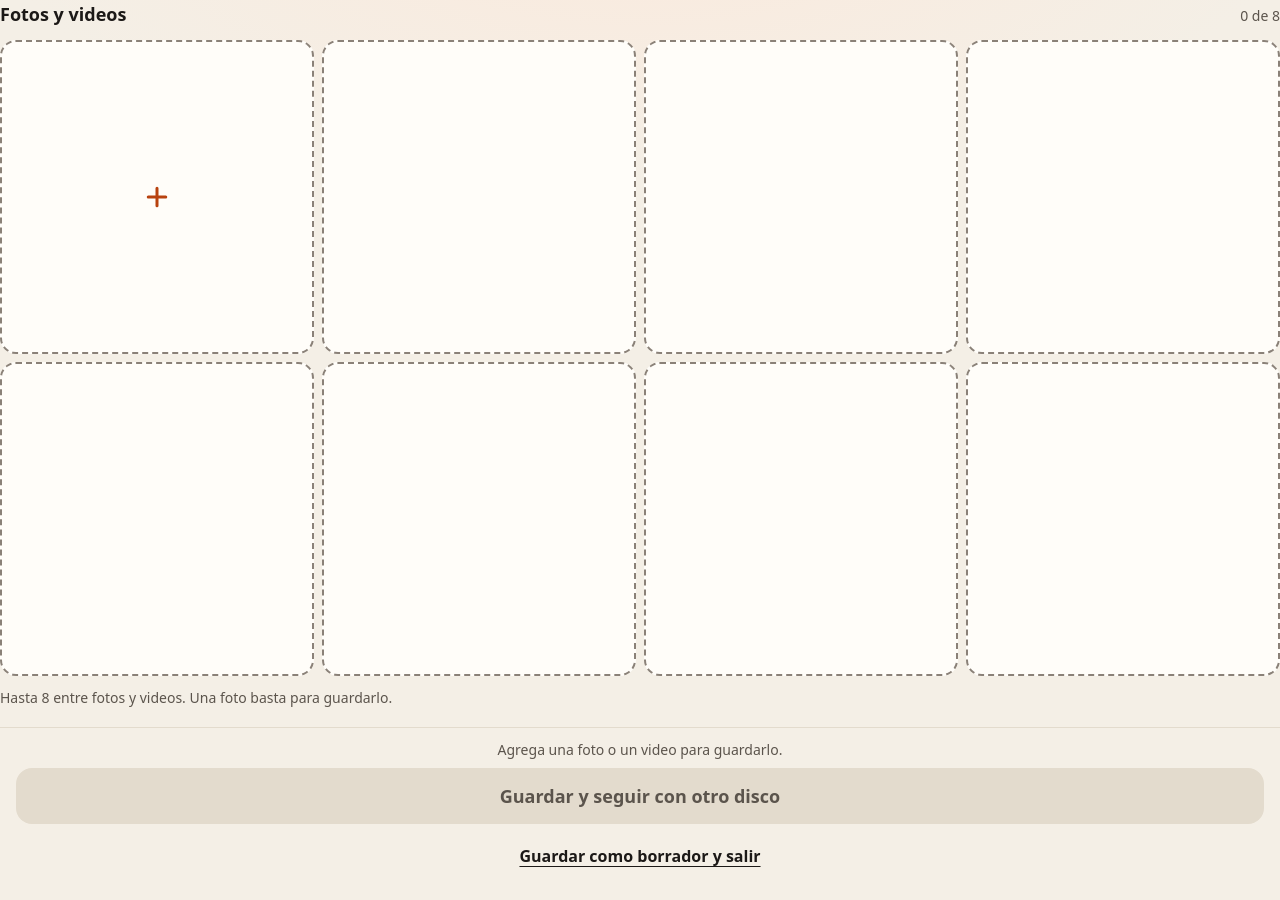
Test: NewRecordForm › the photo boxes › opens the camera picker and closes the question
This screenshot has width=1280, height=900.
Click the 1st button named "Agregar foto o video".
click(157, 197)  # box [0,40,314,354]
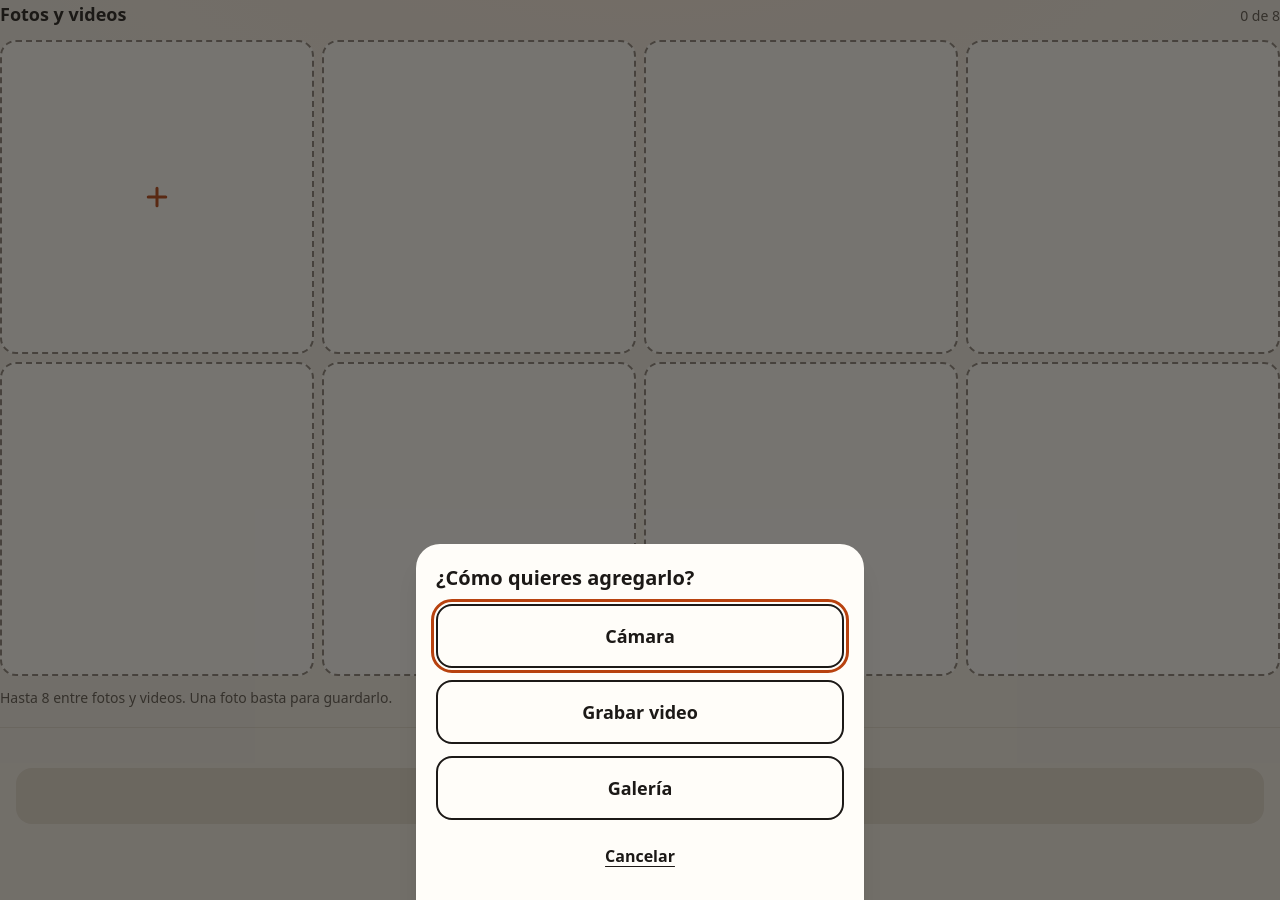
Click the button "Cámara".
click(640, 636)  # box [436,604,844,668]
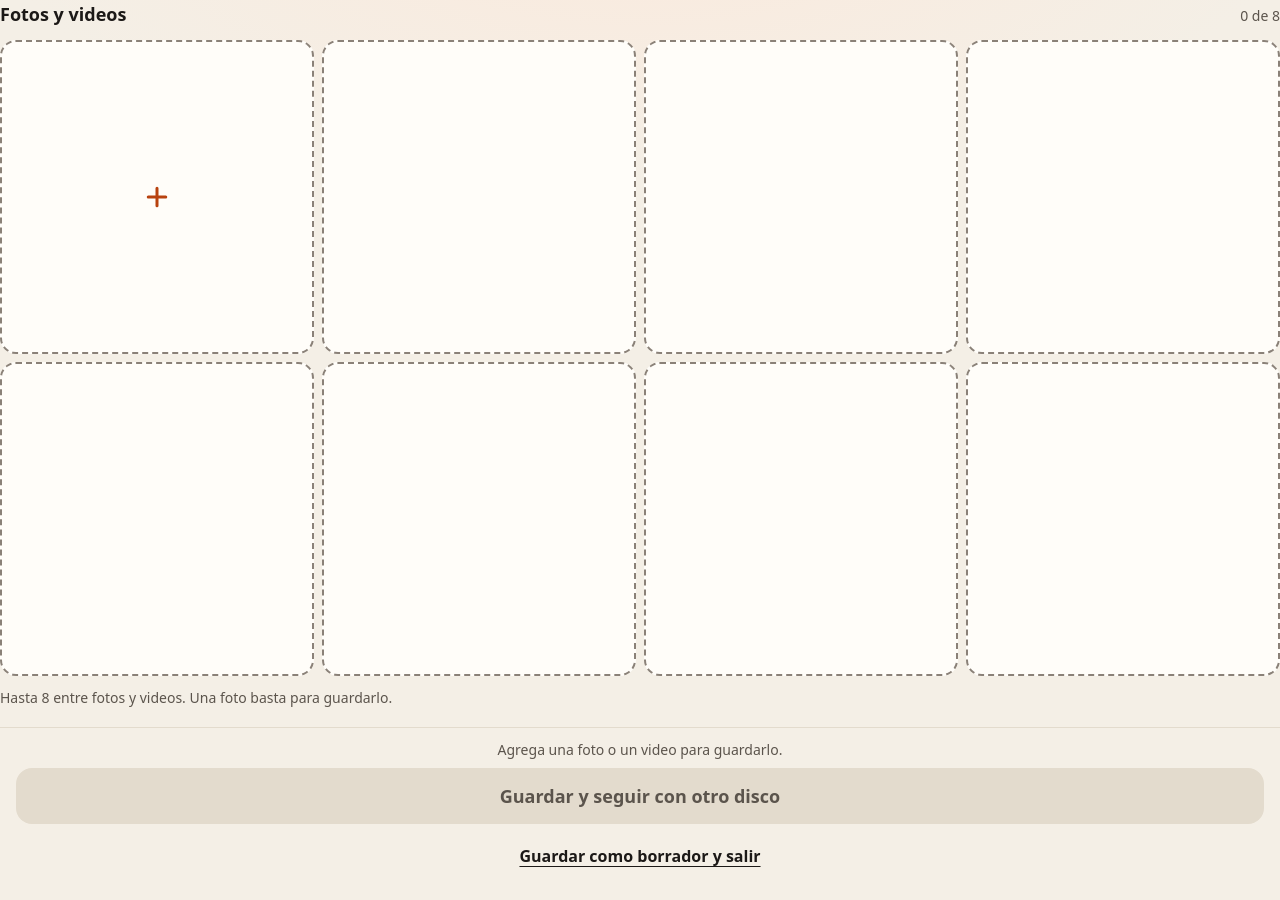
Expected: the dialog is gone
